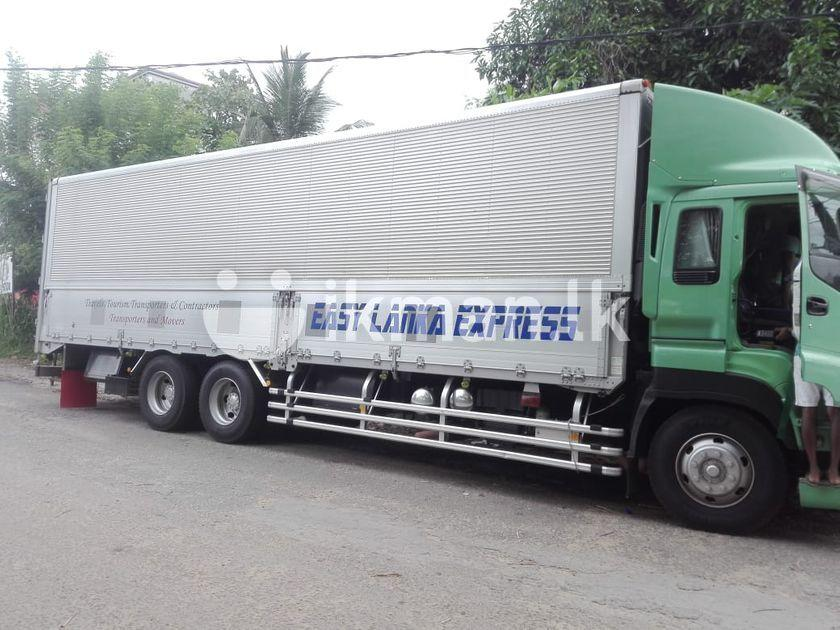truck: (33, 75, 840, 538)
